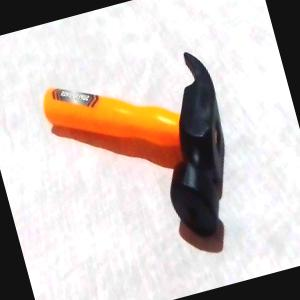martelo: (38, 46, 251, 270)
